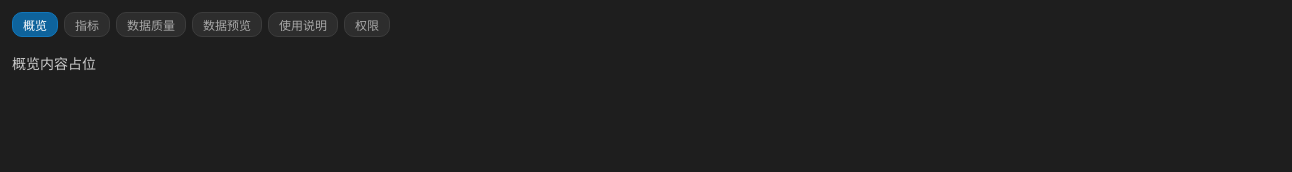
it: AssetDetailTabs 页签接线 › 指标页签按 /table/{id}/indicators 取数并渲染
Click the tab "指标": (87, 24) [64, 12, 110, 37]
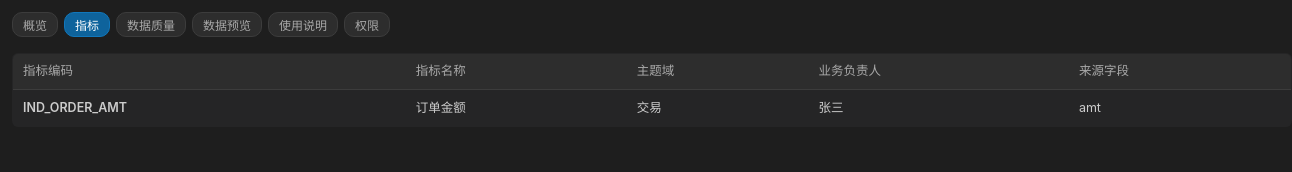
expect the text "IND_ORDER_AMT" is shown: met, box [12, 89, 406, 127]
expect the text "订单金额" is shown: met, box [406, 89, 627, 127]
